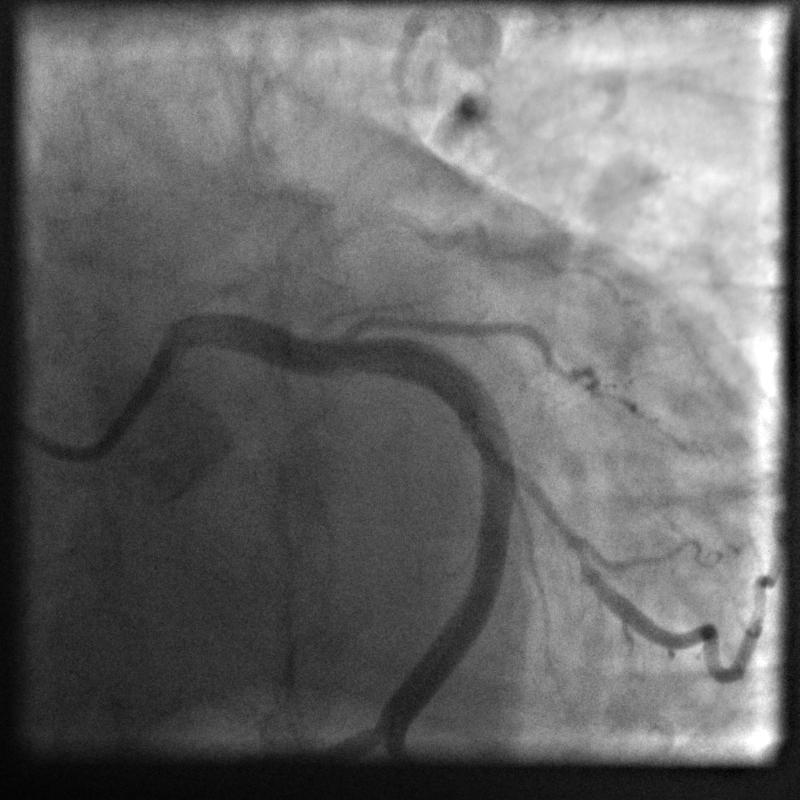Stenosis: (508, 441, 594, 575)
